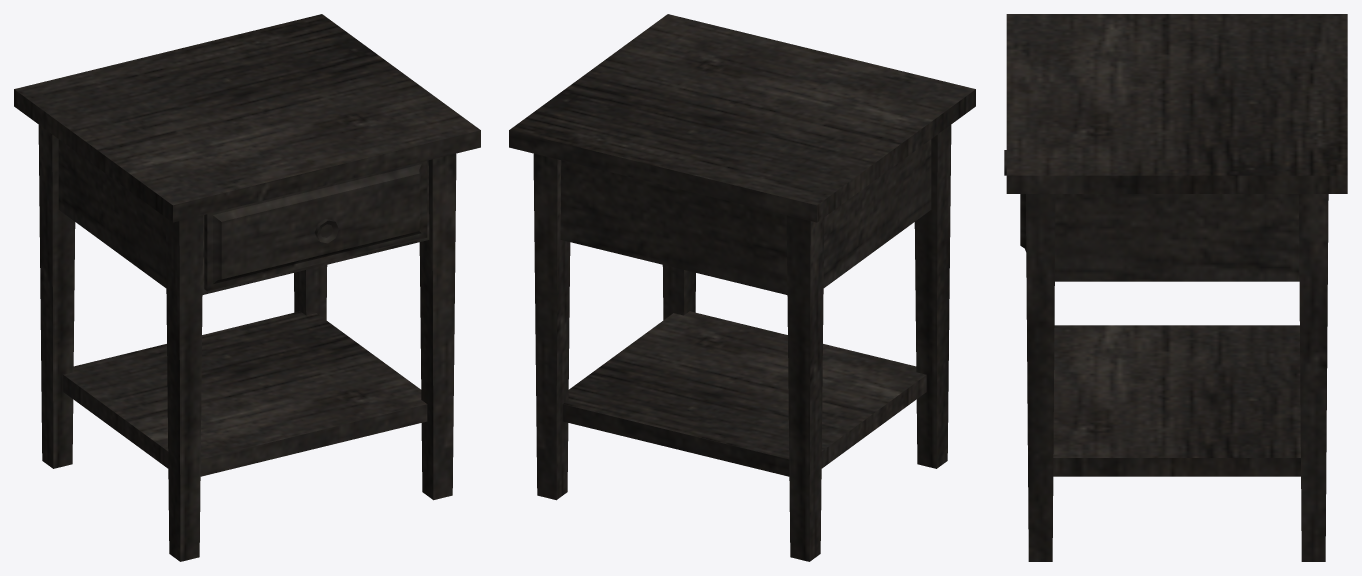
Rendered from bedside_table_1.fbx.
The picture shows the model from 3 angles, left to right: view 1: azimuth 30°, elevation 25°; view 2: azimuth 150°, elevation 25°; view 3: azimuth 270°, elevation 25°; orthographic projection. The views are drawn at different scales.
Parts seen in each view (by area): view 1: bedside_table_1, bedside_table_1_drawer; view 2: bedside_table_1; view 3: bedside_table_1.
Boxes of the visible parts, bbox=[...] form: bedside_table_1: bbox=[14, 14, 480, 561]; bedside_table_1_drawer: bbox=[204, 160, 427, 291]; bedside_table_1: bbox=[509, 14, 975, 561]; bedside_table_1: bbox=[1006, 14, 1347, 561].
Bounding box in the file's own units: 0.56 × 0.5035 × 0.64.
